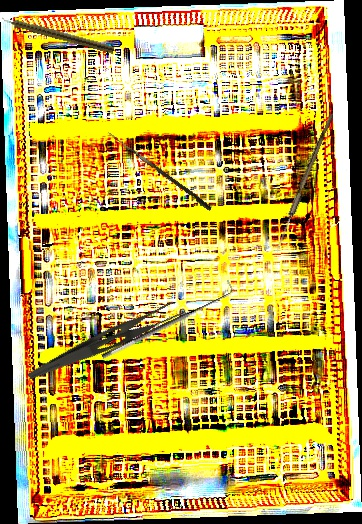Dressing Forceps: (26, 291, 188, 397)
Handpiece: (0, 14, 116, 54)
Hook Surgical: (96, 279, 238, 361), (104, 131, 214, 212)
Surgical Spoon: (274, 112, 334, 253)
